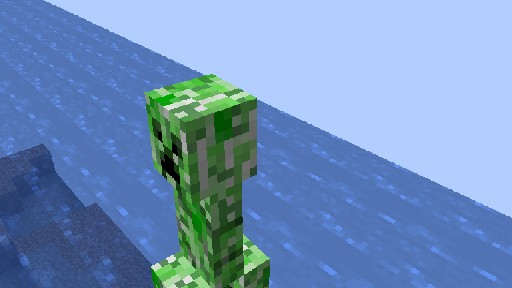creeper: (143, 73, 269, 288)
